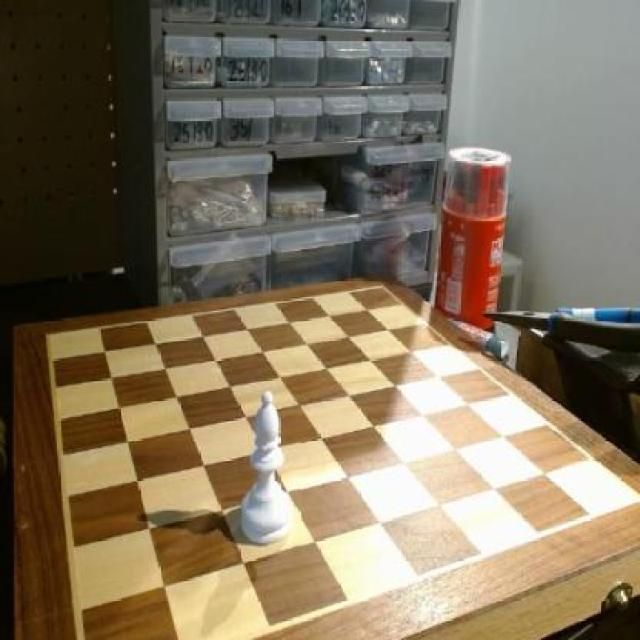black-rook: (234, 385, 301, 553)
